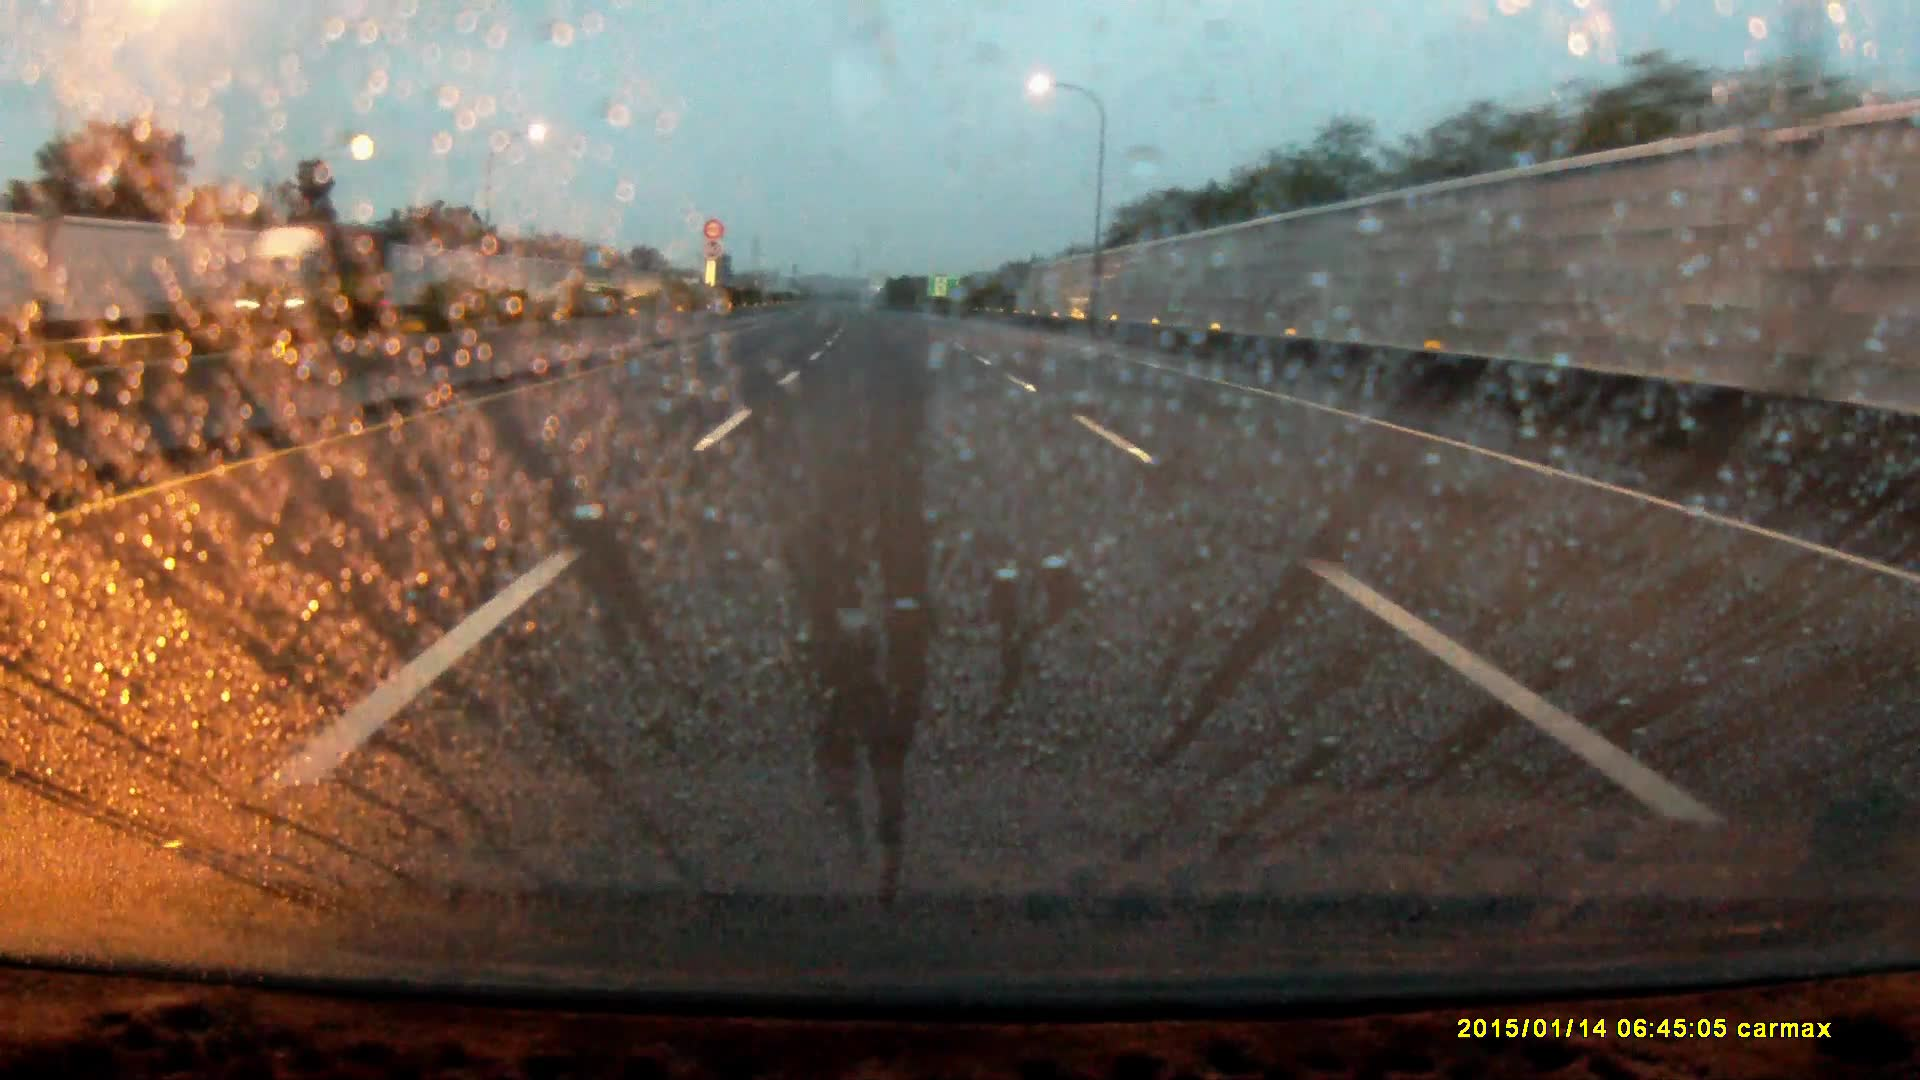vehicle: (243, 219, 389, 326)
